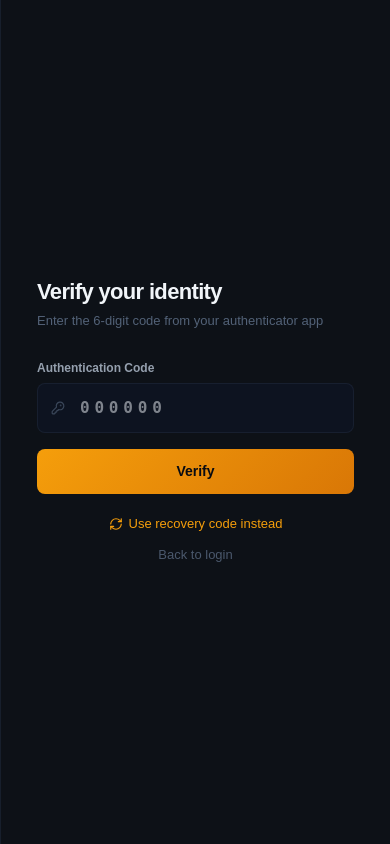
MfaChallenge Component › should allow numeric input only in TOTP field
Type "abc123def" into the field with placeholder "000000". click: (196,408)
box: [37,383,354,433]
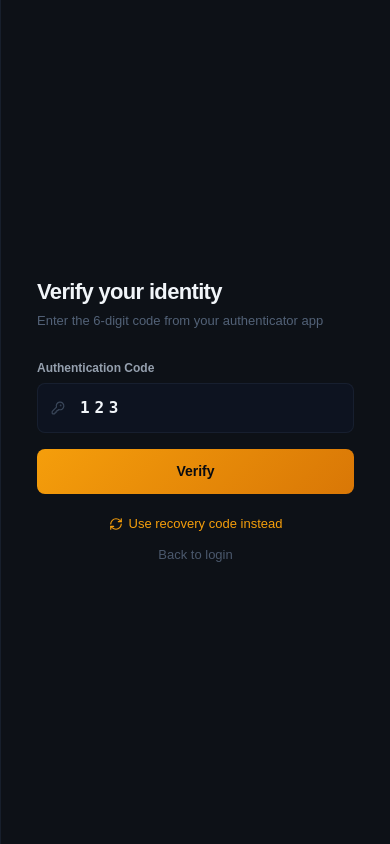
Result: the field with placeholder "000000" holds "123" at [37,383,354,433]
